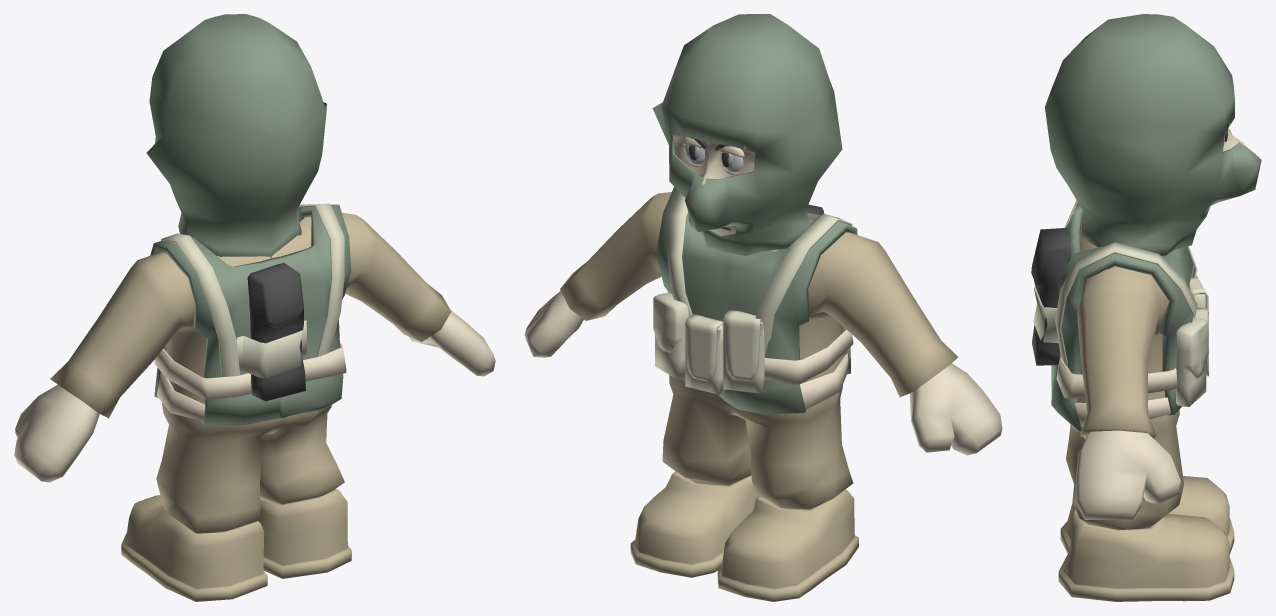
Rendered from soldier_terror_brown.fbx.
3 views of the same model, side by side, from view 1: azimuth 30°, elevation 25°; view 2: azimuth 150°, elevation 25°; view 3: azimuth 270°, elevation 25° (orthographic).
Visible parts, largest first — view 1: Iraq_Soldier_Mask_Bla; view 2: Iraq_Soldier_Mask_Bla; view 3: Iraq_Soldier_Mask_Bla.
Boxes of the visible parts, x1=… form: Iraq_Soldier_Mask_Bla: x1=14, y1=14, x2=495, y2=601; Iraq_Soldier_Mask_Bla: x1=524, y1=14, x2=1002, y2=601; Iraq_Soldier_Mask_Bla: x1=1031, y1=14, x2=1261, y2=601.
Size of the model in its own units: 0.9836 by 1.07 by 0.418.
